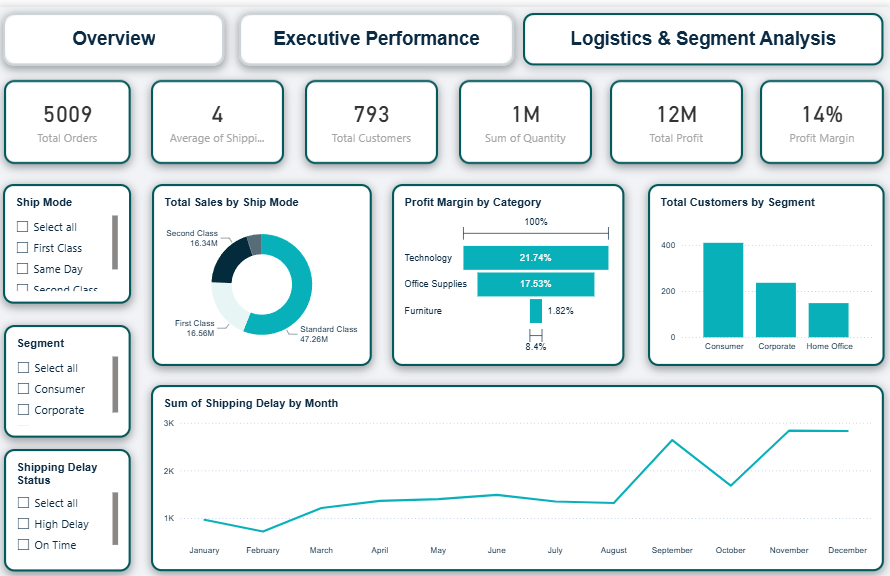

The dashboard page shown, as its layout file describes it:
{"tool":"powerbi","page":{"name":"Logistics & Segment Analysis","canvas":[1280,820],"ordinal":2},"visuals":[{"type":"advanceCardE03760C5AB684758B56AA29F9E6C257B","fields":{"mainMeasure":["My Measures.Total Orders"]},"box":[10.9,103.8,181.1,120],"z":0},{"type":"advanceCardE03760C5AB684758B56AA29F9E6C257B","fields":{"mainMeasure":["Avg(Dim Ship.Shipping Delay)"]},"box":[221.9,103.8,190,120],"z":1000},{"type":"advanceCardE03760C5AB684758B56AA29F9E6C257B","fields":{"mainMeasure":["My Measures.Total Profit"]},"box":[877.5,103.8,190,120],"z":2000},{"type":"advanceCardE03760C5AB684758B56AA29F9E6C257B","fields":{"mainMeasure":["My Measures.Profit Margin"]},"box":[1092,103.8,176.7,120],"z":3000},{"type":"advanceCardE03760C5AB684758B56AA29F9E6C257B","fields":{"mainMeasure":["My Measures.Total Customers"]},"box":[441.9,103.8,190,120],"z":4000},{"type":"advanceCardE03760C5AB684758B56AA29F9E6C257B","fields":{"mainMeasure":["Sum(Fact Orders.Quantity)"]},"box":[661.9,103.8,190,120],"z":5000},{"type":"funnel","fields":{"Category":["Dim Product.Category"],"Y":["My Measures.Profit Margin"]},"box":[566.4,252.6,332.2,260],"z":6000},{"type":"columnChart","fields":{"Category":["Dim Customer.Segment"],"Y":["My Measures.Total Customers"]},"box":[930.9,252.6,337.8,260],"z":7000},{"type":"donutChart","fields":{"Y":["My Measures.Total Sales"],"Category":["Dim Ship.Ship Mode"]},"box":[222.5,252.5,313.8,260],"z":8000},{"type":"lineChart","fields":{"Category":["Dim Ship.Ship Date.Variation.Date Hierarchy.Month"],"Y":["Sum(Dim Ship.Shipping Delay)"]},"box":[222,540.4,1046.7,265.6],"z":9000},{"type":"listSlicer","fields":{"Values":["Dim Ship.Shipping Delay Status"]},"box":[11.2,631.2,181.2,175],"z":11000},{"type":"listSlicer","fields":{"Values":["Dim Customer.Segment"]},"box":[11.2,453.8,181.2,161.2],"z":12000},{"type":"actionButton","box":[752.5,8.8,515,75],"z":13000},{"type":"actionButton","box":[347.5,8.8,392.5,75],"z":14000},{"type":"actionButton","box":[10,8.8,316.2,75],"z":15000},{"type":"listSlicer","fields":{"Values":["Dim Ship.Ship Mode"]},"box":[10,252.5,182.5,171.2],"z":15001}]}

Visuals, with their boxes in screenshot pixels (x1, y1, x2, y2), scaled from the page's 1280x820 canvas onto the 890x576 screenshot:
advanceCardE03760C5AB684758B56AA29F9E6C257B - My Measures.Total Orders: box=[8, 73, 134, 157]
advanceCardE03760C5AB684758B56AA29F9E6C257B - Avg(Dim Ship.Shipping Delay): box=[154, 73, 286, 157]
advanceCardE03760C5AB684758B56AA29F9E6C257B - My Measures.Total Profit: box=[610, 73, 742, 157]
advanceCardE03760C5AB684758B56AA29F9E6C257B - My Measures.Profit Margin: box=[759, 73, 882, 157]
advanceCardE03760C5AB684758B56AA29F9E6C257B - My Measures.Total Customers: box=[307, 73, 439, 157]
advanceCardE03760C5AB684758B56AA29F9E6C257B - Sum(Fact Orders.Quantity): box=[460, 73, 592, 157]
funnel - Dim Product.Category x My Measures.Profit Margin: box=[394, 177, 625, 360]
columnChart - Dim Customer.Segment x My Measures.Total Customers: box=[647, 177, 882, 360]
donutChart - My Measures.Total Sales x Dim Ship.Ship Mode: box=[155, 177, 373, 360]
lineChart - Dim Ship.Ship Date.Variation.Date Hierarchy.Month x Sum(Dim Ship.Shipping Delay): box=[154, 380, 882, 566]
listSlicer - Dim Ship.Shipping Delay Status: box=[8, 443, 134, 566]
listSlicer - Dim Customer.Segment: box=[8, 319, 134, 432]
actionButton: box=[523, 6, 881, 59]
actionButton: box=[242, 6, 515, 59]
actionButton: box=[7, 6, 227, 59]
listSlicer - Dim Ship.Ship Mode: box=[7, 177, 134, 298]
